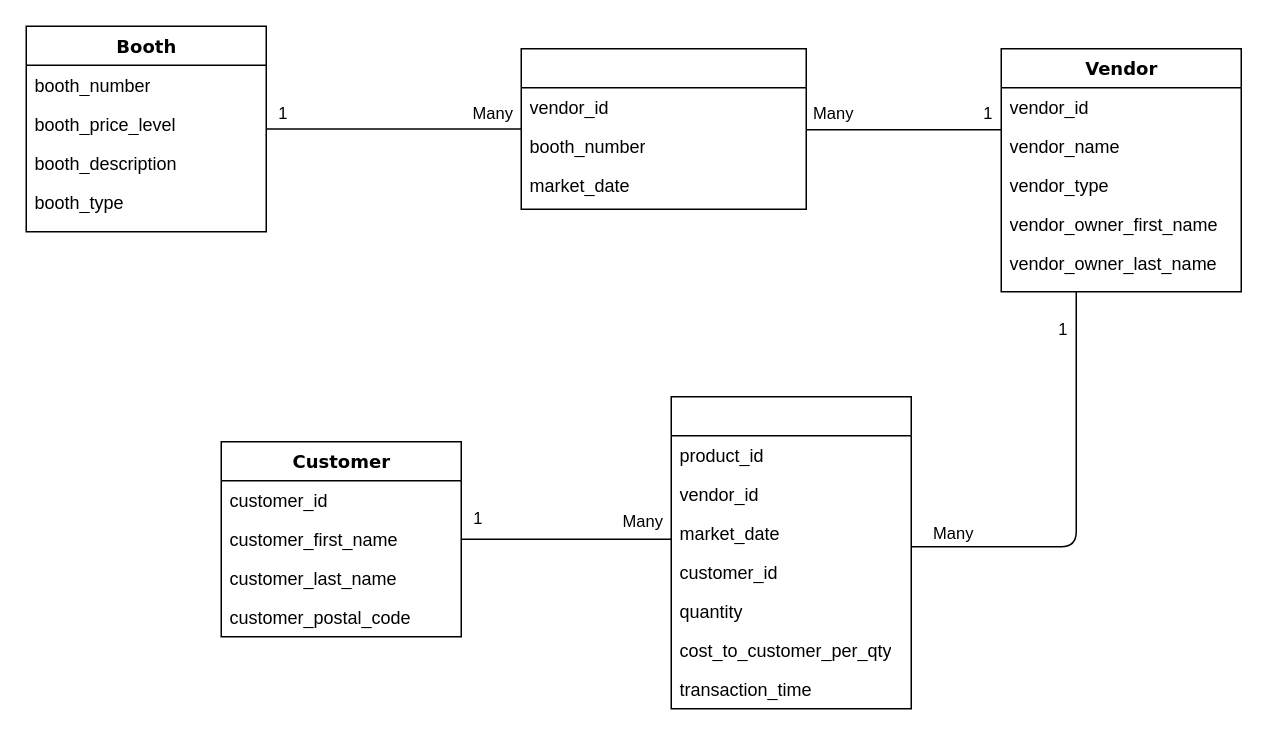
Image size: 1268x740. Some labels were removed from this diagram. Here are the shapes that lost their labels. From the top down, the box of each, then its label:
(520, 47, 806, 209): Vendor Booth Assignments
(670, 395, 911, 709): Customer Purchases
